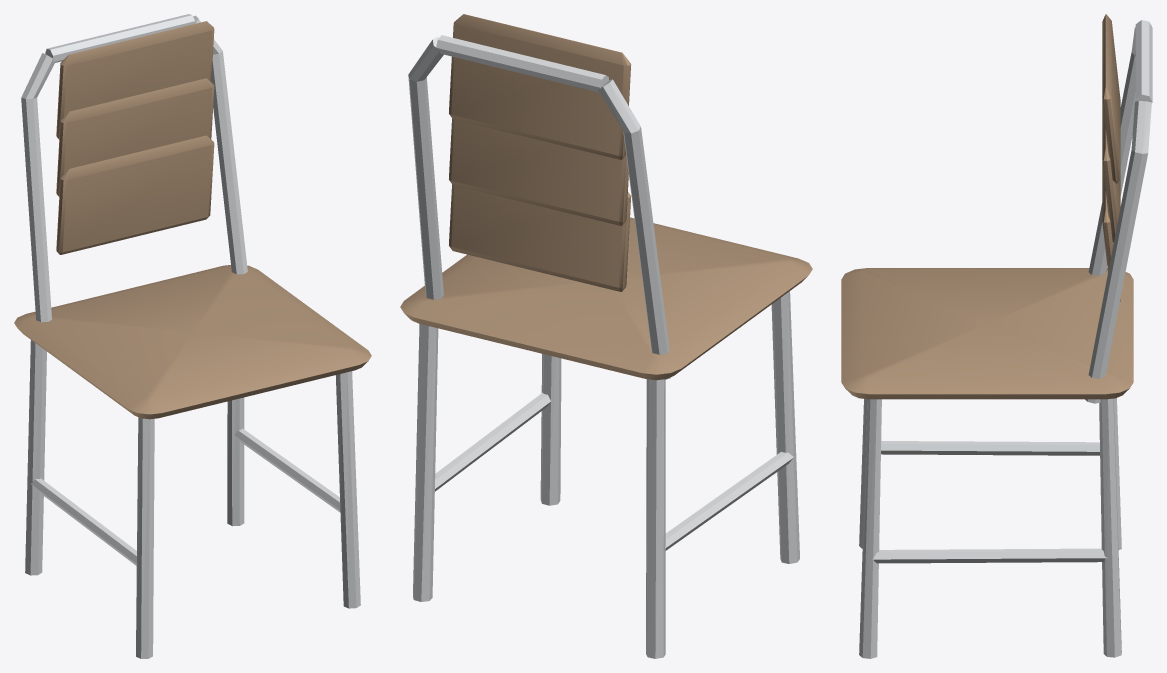
The model's file is restaurant-kitchen-and-dining-side-chair-634bf42c__16502.glb.
3 renders of one model, left to right at view 1: azimuth 30°, elevation 25°; view 2: azimuth 150°, elevation 25°; view 3: azimuth 270°, elevation 25°, orthographic. The views are drawn at different scales.
Visible parts, largest first — view 1: side-chair; view 2: side-chair; view 3: side-chair.
Part boxes in pixels (box(x1,y1,x2,y2)): side-chair: box(14, 14, 371, 658); side-chair: box(400, 14, 812, 658); side-chair: box(841, 14, 1152, 658).
Bounding box in the file's own units: 0.44 × 0.8947 × 0.458.
